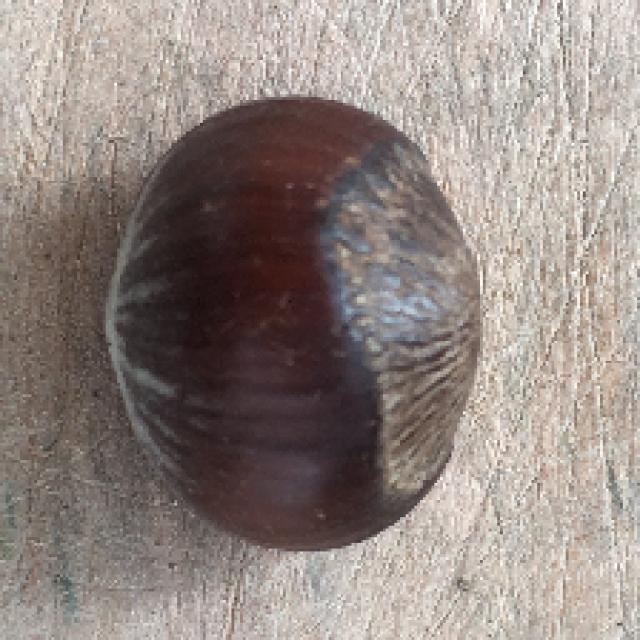damagedHazelnut: (99, 88, 494, 556)
